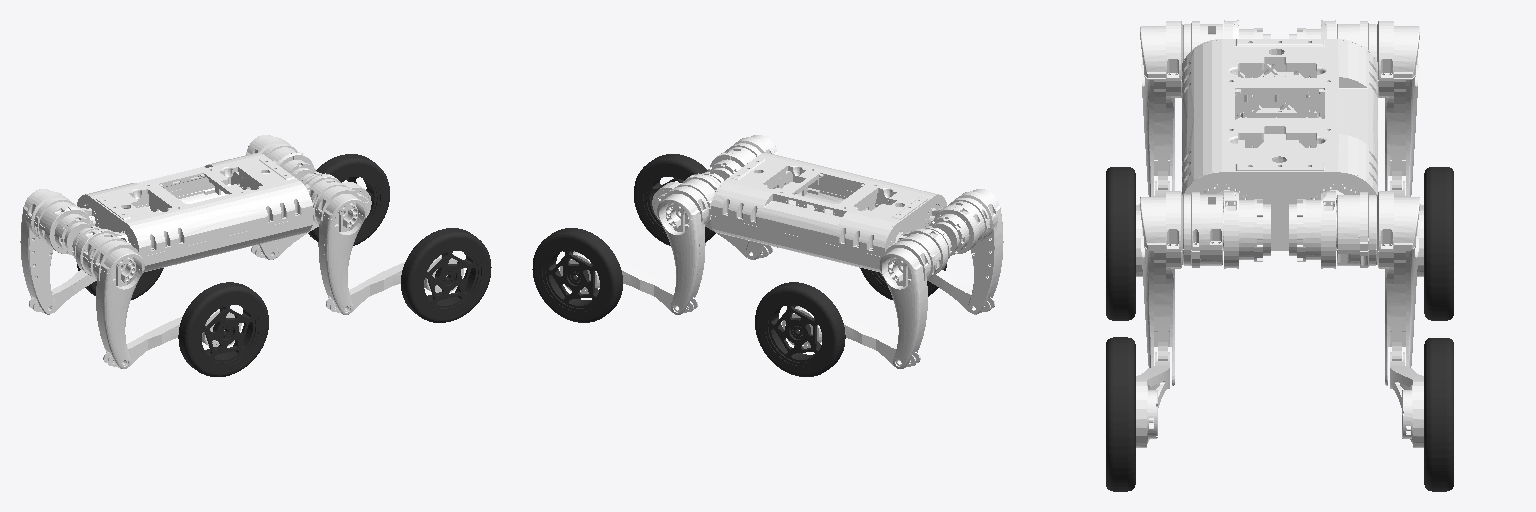
robot.urdf — RP_wd:
<?xml version="1.0"?>
<robot name="RP_wd">

    <link name="base_link">
      <visual>
        <origin xyz="0 0 0" rpy="0 0 0" />
        <geometry>
          <mesh filename="meshes/base_link.STL" />
        </geometry>
        <material>
          <color rgba="1.00000000 1.00000000 1.00000000 1.00000000"/>
        </material>
      </visual>
      <collision>
        <origin xyz="0 0 0" rpy="0 0 0" />
        <geometry>
          <box size="0.42 0.26 0.12" />
        </geometry>
      </collision>
      <inertial>
        <origin xyz="-0.0064993 -0.0009295 0.0021204" rpy="0 0 0" />
        <mass value="7.4975959" />
        <inertia ixx="0.0589761" ixy="0.0000143" ixz="0.000089" iyy="0.1812866" iyz="0.0004461" izz="0.2224493" />
      </inertial>
    </link>

    <link name="LF_ABAD_LINK">
      <visual>
        <origin xyz="0 0 0" rpy="0 0 0" />
        <geometry>
          <mesh filename="meshes/LF_ABAD_LINK.STL" />
        </geometry>
        <material>
          <color rgba="1.00000000 1.00000000 1.00000000 1.00000000"/>
        </material>
      </visual>
      <collision>
        <origin xyz="0 -0.034 0" rpy="1.5707963 0 0" />
        <geometry>
          <cylinder radius="0.048" length="0.064" />
        </geometry>
      </collision>
      <inertial>
        <origin xyz="-0.0009598 -0.0317346 0" rpy="0 0 0" />
        <mass value="0.8603295" />
        <inertia ixx="0.0006379" ixy="0.0000452" ixz="0" iyy="0.0007923" iyz="0" izz="0.0006889" />
      </inertial>
    </link>

    <link name="LF_HIP_LINK">
      <visual>
        <origin xyz="0 0 0" rpy="0 0 0" />
        <geometry>
          <mesh filename="meshes/LF_HIP_LINK.STL" />
        </geometry>
        <material>
          <color rgba="1.00000000 1.00000000 1.00000000 1.00000000"/>
        </material>
      </visual>
      <collision>
        <origin xyz="0 -0.014 0" rpy="1.5707963 0 0" />
        <geometry>
          <cylinder radius="0.048" length="0.11" />
        </geometry>
      </collision>
      <collision>
        <origin xyz="-0.02 0.016 -0.12" rpy="1.5707963 0 0" />
        <geometry>
          <box size="0.06 0.14 0.04" />
        </geometry>
      </collision>
      <inertial>
        <origin xyz="-0.0028159 -0.0294115 -0.0241435" rpy="0 0 0" />
        <mass value="1.3307055" />
        <inertia ixx="0.0057683" ixy="0.0001375" ixz="-0.0003075" iyy="0.0055296" iyz="0.000976" izz="0.0015633" />
      </inertial>
    </link>

    <link name="LF_KENN_LINK">
      <visual>
        <origin xyz="0 0 0" rpy="0 0 0" />
        <geometry>
          <mesh filename="meshes/LF_KENN_LINK.STL" />
        </geometry>
        <material>
          <color rgba="1.00000000 1.00000000 1.00000000 1.00000000"/>
        </material>
      </visual>
      <collision>
        <origin xyz="0.016 0.006 -0.08" rpy="0.122173 -0.1396263 0" />
        <geometry>
          <cylinder radius="0.02" length="0.18" />
        </geometry>
      </collision>
      <collision>
        <origin xyz="0 0.021 -0.22" rpy="1.5707963 0 0" />
        <geometry>
          <cylinder radius="0.045" length="0.03" />
        </geometry>
      </collision>
      <inertial>
        <origin xyz="0.0039019 0.0253379 -0.1888436" rpy="0 0 0" />
        <mass value="0.636513" />
        <inertia ixx="0.0027405" ixy="0.0000325" ixz="-0.0001755" iyy="0.002845" iyz="0.0003959" izz="0.0003994" />
      </inertial>
    </link>

    <link name="LF_FOOT_LINK">
      <visual>
        <origin xyz="0 0 0" rpy="0 0 0" />
        <geometry>
          <mesh filename="meshes/LF_FOOT_LINK.STL" />
        </geometry>
        <material>
          <color rgba="0.25098039 0.25098039 0.25098039 1.00000000"/>
        </material>
      </visual>
      <collision>
        <origin xyz="0.0000371 0.003 -0.0000005" rpy="1.5707963 0 0" />
        <geometry>
          <cylinder radius="0.1025" length="0.04" />
        </geometry>
      </collision>
      <inertial>
        <origin xyz="-0.0000842 0.0012423 -0.0000301" rpy="0 0 0" />
        <mass value="0.4354423" />
        <inertia ixx="0.0012979" ixy="0" ixz="0.0000008" iyy="0.0024981" iyz="0" izz="0.001296" />
      </inertial>
    </link>

    <link name="RF_ABAD_LINK">
      <visual>
        <origin xyz="0 0 0" rpy="0 0 0" />
        <geometry>
          <mesh filename="meshes/RF_ABAD_LINK.STL" />
        </geometry>
        <material>
          <color rgba="1.00000000 1.00000000 1.00000000 1.00000000"/>
        </material>
      </visual>
      <collision>
        <origin xyz="0 0.034 0" rpy="-1.5707963 0 0" />
        <geometry>
          <cylinder radius="0.048" length="0.064" />
        </geometry>
      </collision>
      <inertial>
        <origin xyz="-0.0009598 0.0317346 0" rpy="0 0 0" />
        <mass value="0.8603295" />
        <inertia ixx="0.0006379" ixy="-0.0000452" ixz="0" iyy="0.0007923" iyz="0" izz="0.0006889" />
      </inertial>
    </link>

    <link name="RF_HIP_LINK">
      <visual>
        <origin xyz="0 0 0" rpy="0 0 0" />
        <geometry>
          <mesh filename="meshes/RF_HIP_LINK.STL" />
        </geometry>
        <material>
          <color rgba="1.00000000 1.00000000 1.00000000 1.00000000"/>
        </material>
      </visual>
      <collision>
        <origin xyz="0 0.014 0" rpy="-1.5707963 0 0" />
        <geometry>
          <cylinder radius="0.048" length="0.11" />
        </geometry>
      </collision>
      <collision>
        <origin xyz="-0.02 -0.016 -0.12" rpy="-1.5707963 0 0" />
        <geometry>
          <box size="0.06 0.14 0.04" />
        </geometry>
      </collision>
      <inertial>
        <origin xyz="-0.0028159 0.0294115 -0.0241435" rpy="0 0 0" />
        <mass value="1.3307055" />
        <inertia ixx="0.0057683" ixy="-0.0001375" ixz="-0.0003075" iyy="0.0055296" iyz="-0.000976" izz="0.0015633" />
      </inertial>
    </link>

    <link name="RF_KENN_LINK">
      <visual>
        <origin xyz="0 0 0" rpy="0 0 0" />
        <geometry>
          <mesh filename="meshes/RF_KENN_LINK.STL" />
        </geometry>
        <material>
          <color rgba="1.00000000 1.00000000 1.00000000 1.00000000"/>
        </material>
      </visual>
      <collision>
        <origin xyz="0.016 -0.006 -0.08" rpy="-0.122173 -0.1396263 0" />
        <geometry>
          <cylinder radius="0.02" length="0.18" />
        </geometry>
      </collision>
      <collision>
        <origin xyz="0 -0.021 -0.22" rpy="-1.5707963 0 0" />
        <geometry>
          <cylinder radius="0.045" length="0.03" />
        </geometry>
      </collision>
      <inertial>
        <origin xyz="0.0039019 -0.0253379 -0.1888436" rpy="0 0 0" />
        <mass value="0.636513" />
        <inertia ixx="0.0027405" ixy="-0.0000325" ixz="-0.0001755" iyy="0.002845" iyz="-0.0003959" izz="0.0003994" />
      </inertial>
    </link>

    <link name="RF_FOOT_LINK">
      <visual>
        <origin xyz="0 0 0" rpy="0 0 0" />
        <geometry>
          <mesh filename="meshes/RF_FOOT_LINK.STL" />
        </geometry>
        <material>
          <color rgba="0.25098039 0.25098039 0.25098039 1.00000000"/>
        </material>
      </visual>
      <collision>
        <origin xyz="0.0000371 -0.003 -0.0000005" rpy="-1.5707963 0 0" />
        <geometry>
          <cylinder radius="0.1025" length="0.04" />
        </geometry>
      </collision>
      <inertial>
        <origin xyz="-0.0000842 -0.0012423 -0.0000301" rpy="0 0 0" />
        <mass value="0.4354423" />
        <inertia ixx="0.0012979" ixy="0" ixz="0.0000008" iyy="0.0024981" iyz="0" izz="0.001296" />
      </inertial>
    </link>

    <link name="LB_ABAD_LINK">
      <visual>
        <origin xyz="0 0 0" rpy="0 0 0" />
        <geometry>
          <mesh filename="meshes/LB_ABAD_LINK.STL" />
        </geometry>
        <material>
          <color rgba="1.00000000 1.00000000 1.00000000 1.00000000"/>
        </material>
      </visual>
      <collision>
        <origin xyz="0 -0.034 0" rpy="1.5707963 0 0" />
        <geometry>
          <cylinder radius="0.048" length="0.064" />
        </geometry>
      </collision>
      <inertial>
        <origin xyz="0.0009598 -0.0317346 0" rpy="0 0 0" />
        <mass value="0.8603295" />
        <inertia ixx="0.0006379" ixy="-0.0000452" ixz="0" iyy="0.0007923" iyz="0" izz="0.0006889" />
      </inertial>
    </link>

    <link name="LB_HIP_LINK">
      <visual>
        <origin xyz="0 0 0" rpy="0 0 0" />
        <geometry>
          <mesh filename="meshes/LB_HIP_LINK.STL" />
        </geometry>
        <material>
          <color rgba="1.00000000 1.00000000 1.00000000 1.00000000"/>
        </material>
      </visual>
      <collision>
        <origin xyz="0 -0.014 0" rpy="1.5707963 0 0" />
        <geometry>
          <cylinder radius="0.048" length="0.11" />
        </geometry>
      </collision>
      <collision>
        <origin xyz="-0.02 0.016 -0.12" rpy="1.5707963 0 0" />
        <geometry>
          <box size="0.06 0.14 0.040001" />
        </geometry>
      </collision>
      <inertial>
        <origin xyz="-0.0027582 -0.0294115 -0.0240635" rpy="0 0 0" />
        <mass value="1.3307055" />
        <inertia ixx="0.0057764" ixy="0.0001403" ixz="-0.0003087" iyy="0.0055352" iyz="0.0009799" izz="0.0015608" />
      </inertial>
    </link>

    <link name="LB_KENN_LINK">
      <visual>
        <origin xyz="0 0 0" rpy="0 0 0" />
        <geometry>
          <mesh filename="meshes/LB_KENN_LINK.STL" />
        </geometry>
        <material>
          <color rgba="1.00000000 1.00000000 1.00000000 1.00000000"/>
        </material>
      </visual>
      <collision>
        <origin xyz="0.016 0.006 -0.08" rpy="0.122173 -0.1396263 0" />
        <geometry>
          <cylinder radius="0.02" length="0.18" />
        </geometry>
      </collision>
      <collision>
        <origin xyz="0 0.021 -0.22" rpy="1.5707963 0 0" />
        <geometry>
          <cylinder radius="0.045" length="0.03" />
        </geometry>
      </collision>
      <inertial>
        <origin xyz="0.0039019 0.0253379 -0.1888436" rpy="0 0 0" />
        <mass value="0.636513" />
        <inertia ixx="0.0027405" ixy="0.0000325" ixz="-0.0001755" iyy="0.002845" iyz="0.0003959" izz="0.0003994" />
      </inertial>
    </link>

    <link name="LB_FOOT_LINK">
      <visual>
        <origin xyz="0 0 0" rpy="0 0 0" />
        <geometry>
          <mesh filename="meshes/LB_FOOT_LINK.STL" />
        </geometry>
        <material>
          <color rgba="0.25098039 0.25098039 0.25098039 1.00000000"/>
        </material>
      </visual>
      <collision>
        <origin xyz="0.0000371 0.003 -0.0000005" rpy="1.5707963 0 0" />
        <geometry>
          <cylinder radius="0.1025" length="0.04" />
        </geometry>
      </collision>
      <inertial>
        <origin xyz="-0.0000548 0.0044286 -0.0000713" rpy="0 0 0" />
        <mass value="0.4354423" />
        <inertia ixx="0.0012966" ixy="0" ixz="0.0000012" iyy="0.0024981" iyz="0" izz="0.0012973" />
      </inertial>
    </link>

    <link name="RB_ABAD_LINK">
      <visual>
        <origin xyz="0 0 0" rpy="0 0 0" />
        <geometry>
          <mesh filename="meshes/RB_ABAD_LINK.STL" />
        </geometry>
        <material>
          <color rgba="1.00000000 1.00000000 1.00000000 1.00000000"/>
        </material>
      </visual>
      <collision>
        <origin xyz="0 0.034 0" rpy="-1.5707963 0 0" />
        <geometry>
          <cylinder radius="0.048" length="0.064" />
        </geometry>
      </collision>
      <inertial>
        <origin xyz="0.0009598 0.0317346 0" rpy="0 0 0" />
        <mass value="0.8603295" />
        <inertia ixx="0.0006379" ixy="0.0000452" ixz="0" iyy="0.0007923" iyz="0" izz="0.0006889" />
      </inertial>
    </link>

    <link name="RB_HIP_LINK">
      <visual>
        <origin xyz="0 0 0" rpy="0 0 0" />
        <geometry>
          <mesh filename="meshes/RB_HIP_LINK.STL" />
        </geometry>
        <material>
          <color rgba="1.00000000 1.00000000 1.00000000 1.00000000"/>
        </material>
      </visual>
      <collision>
        <origin xyz="0 0.014 0" rpy="-1.5707963 0 0" />
        <geometry>
          <cylinder radius="0.048" length="0.11" />
        </geometry>
      </collision>
      <collision>
        <origin xyz="-0.02 -0.016 -0.12" rpy="-1.5707963 0 0" />
        <geometry>
          <box size="0.06 0.14 0.040001" />
        </geometry>
      </collision>
      <inertial>
        <origin xyz="-0.0027582 0.0294115 -0.0240635" rpy="0 0 0" />
        <mass value="1.3307055" />
        <inertia ixx="0.0057764" ixy="-0.0001403" ixz="-0.0003087" iyy="0.0055352" iyz="-0.0009799" izz="0.0015608" />
      </inertial>
    </link>

    <link name="RB_KENN_LINK">
      <visual>
        <origin xyz="0 0 0" rpy="0 0 0" />
        <geometry>
          <mesh filename="meshes/RB_KENN_LINK.STL" />
        </geometry>
        <material>
          <color rgba="1.00000000 1.00000000 1.00000000 1.00000000"/>
        </material>
      </visual>
      <collision>
        <origin xyz="0.016 -0.006 -0.08" rpy="-0.122173 -0.1396263 0" />
        <geometry>
          <cylinder radius="0.02" length="0.18" />
        </geometry>
      </collision>
      <collision>
        <origin xyz="0 -0.021 -0.22" rpy="-1.5707963 0 0" />
        <geometry>
          <cylinder radius="0.045" length="0.03" />
        </geometry>
      </collision>
      <inertial>
        <origin xyz="0.0039019 -0.0253379 -0.1888436" rpy="0 0 0" />
        <mass value="0.636513" />
        <inertia ixx="0.0027405" ixy="-0.0000325" ixz="-0.0001755" iyy="0.002845" iyz="-0.0003959" izz="0.0003994" />
      </inertial>
    </link>

    <link name="RB_FOOT_LINK">
      <visual>
        <origin xyz="0 0 0" rpy="0 0 0" />
        <geometry>
          <mesh filename="meshes/RB_FOOT_LINK.STL" />
        </geometry>
        <material>
          <color rgba="0.25098039 0.25098039 0.25098039 1.00000000"/>
        </material>
      </visual>
      <collision>
        <origin xyz="0.0000371 -0.003 -0.0000005" rpy="-1.5707963 0 0" />
        <geometry>
          <cylinder radius="0.1025" length="0.04" />
        </geometry>
      </collision>
      <inertial>
        <origin xyz="-0.0000548 -0.0044286 -0.0000713" rpy="0 0 0" />
        <mass value="0.4354423" />
        <inertia ixx="0.0012966" ixy="0" ixz="0.0000012" iyy="0.0024981" iyz="0" izz="0.0012973" />
      </inertial>
    </link>

  <joint name="LF_ABAD_JOINT" type="revolute">
    <parent link="base_link" />
    <child link="LF_ABAD_LINK" />
    <origin xyz="0.26915 0.07715 0.007" rpy="0 0 0" />
    <axis xyz="1 0 0" />
    <limit lower="-1" upper="1" effort="42" velocity="10.472" />
  </joint>

  <joint name="LF_HIP_JOINT" type="revolute">
    <parent link="LF_ABAD_LINK" />
    <child link="LF_HIP_LINK" />
    <origin xyz="0 0.0674 0" rpy="0 0 0" />
    <axis xyz="0 1 0" />
    <limit lower="-1.57" upper="3.49" effort="42" velocity="10.472" />
  </joint>

  <joint name="LF_KENN_JOINT" type="revolute">
    <parent link="LF_HIP_LINK" />
    <child link="LF_KENN_LINK" />
    <origin xyz="0 0.011764 -0.2125" rpy="0 0 0" />
    <axis xyz="0 1 0" />
    <limit lower="-2.7" upper="-0.83" effort="42" velocity="10.472" />
  </joint>

  <joint name="LF_FOOT_JOINT" type="continuous">
    <parent link="LF_KENN_LINK" />
    <child link="LF_FOOT_LINK" />
    <origin xyz="0 0.052 -0.22006" rpy="0 0 0" />
    <axis xyz="0 1 0" />
  </joint>

  <joint name="RF_ABAD_JOINT" type="revolute">
    <parent link="base_link" />
    <child link="RF_ABAD_LINK" />
    <origin xyz="0.26915 -0.07715 0.007" rpy="0 0 0" />
    <axis xyz="1 0 0" />
    <limit lower="-1" upper="1" effort="42" velocity="10.472" />
  </joint>

  <joint name="RF_HIP_JOINT" type="revolute">
    <parent link="RF_ABAD_LINK" />
    <child link="RF_HIP_LINK" />
    <origin xyz="0 -0.0674 0" rpy="0 0 0" />
    <axis xyz="0 1 0" />
    <limit lower="-1.57" upper="3.49" effort="42" velocity="10.472" />
  </joint>

  <joint name="RF_KENN_JOINT" type="revolute">
    <parent link="RF_HIP_LINK" />
    <child link="RF_KENN_LINK" />
    <origin xyz="0 -0.011764 -0.2125" rpy="0 0 0" />
    <axis xyz="0 1 0" />
    <limit lower="-2.7" upper="-0.83" effort="42" velocity="10.472" />
  </joint>

  <joint name="RF_FOOT_JOINT" type="continuous">
    <parent link="RF_KENN_LINK" />
    <child link="RF_FOOT_LINK" />
    <origin xyz="0 -0.052 -0.22006" rpy="0 0 0" />
    <axis xyz="0 1 0" />
  </joint>

  <joint name="LB_ABAD_JOINT" type="revolute">
    <parent link="base_link" />
    <child link="LB_ABAD_LINK" />
    <origin xyz="-0.26885 0.07715 0.007" rpy="0 0 0" />
    <axis xyz="1 0 0" />
    <limit lower="-1" upper="1" effort="42" velocity="10.472" />
  </joint>

  <joint name="LB_HIP_JOINT" type="revolute">
    <parent link="LB_ABAD_LINK" />
    <child link="LB_HIP_LINK" />
    <origin xyz="0 0.0674 0" rpy="0 0 0" />
    <axis xyz="0 1 0" />
    <limit lower="-1.57" upper="3.49" effort="42" velocity="10.472" />
  </joint>

  <joint name="LB_KENN_JOINT" type="revolute">
    <parent link="LB_HIP_LINK" />
    <child link="LB_KENN_LINK" />
    <origin xyz="0 0.011764 -0.2125" rpy="0 0 0" />
    <axis xyz="0 1 0" />
    <limit lower="-2.7" upper="-0.83" effort="42" velocity="10.472" />
  </joint>

  <joint name="LB_FOOT_JOINT" type="continuous">
    <parent link="LB_KENN_LINK" />
    <child link="LB_FOOT_LINK" />
    <origin xyz="0 0.052 -0.22006" rpy="0 0 0" />
    <axis xyz="0 1 0" />
  </joint>

  <joint name="RB_ABAD_JOINT" type="revolute">
    <parent link="base_link" />
    <child link="RB_ABAD_LINK" />
    <origin xyz="-0.26885 -0.07715 0.007" rpy="0 0 0" />
    <axis xyz="1 0 0" />
    <limit lower="-1" upper="1" effort="42" velocity="10.472" />
  </joint>

  <joint name="RB_HIP_JOINT" type="revolute">
    <parent link="RB_ABAD_LINK" />
    <child link="RB_HIP_LINK" />
    <origin xyz="0 -0.0674 0" rpy="0 0 0" />
    <axis xyz="0 1 0" />
    <limit lower="-1.57" upper="3.49" effort="42" velocity="10.472" />
  </joint>

  <joint name="RB_KENN_JOINT" type="revolute">
    <parent link="RB_HIP_LINK" />
    <child link="RB_KENN_LINK" />
    <origin xyz="0 -0.011764 -0.2125" rpy="0 0 0" />
    <axis xyz="0 1 0" />
    <limit lower="-2.7" upper="-0.83" effort="42" velocity="10.472" />
  </joint>

  <joint name="RB_FOOT_JOINT" type="continuous">
    <parent link="RB_KENN_LINK" />
    <child link="RB_FOOT_LINK" />
    <origin xyz="0 -0.052 -0.22006" rpy="0 0 0" />
    <axis xyz="0 1 0" />
  </joint>

</robot>

--- Render facts (derived) ---
3 views of the same robot in one strip: view 1: azimuth 30°, elevation 25°; view 2: azimuth 150°, elevation 25°; view 3: azimuth 270°, elevation 25° (orthographic).
Robot: RP_wd — 17 links, 16 joints (12 revolute, 4 continuous); root link base_link; default pose: joints at zero except 4 at the middle of their limits (LF_KENN_JOINT = -1.76, RF_KENN_JOINT = -1.76, LB_KENN_JOINT = -1.76, RB_KENN_JOINT = -1.76).
Links seen in each view (by area): view 1: base_link, RB_FOOT_LINK, RF_FOOT_LINK, RB_HIP_LINK, RF_HIP_LINK, LB_HIP_LINK, LF_FOOT_LINK, LB_ABAD_LINK, RF_KENN_LINK, RB_KENN_LINK, LF_HIP_LINK, LB_KENN_LINK (+4 smaller); view 2: base_link, LF_FOOT_LINK, LB_FOOT_LINK, LB_HIP_LINK, LF_HIP_LINK, RB_HIP_LINK, RF_FOOT_LINK, RB_ABAD_LINK, LB_KENN_LINK, LF_KENN_LINK, RF_HIP_LINK, RB_KENN_LINK (+4 smaller); view 3: base_link, RF_HIP_LINK, LF_HIP_LINK, RB_HIP_LINK, LB_HIP_LINK, RF_FOOT_LINK, LB_FOOT_LINK, RB_FOOT_LINK, LF_FOOT_LINK, LF_ABAD_LINK, RF_ABAD_LINK, LF_KENN_LINK (+3 smaller).
Link boxes in pixels (x1,y1,x2,y2): base_link: (77, 152, 312, 272); RB_FOOT_LINK: (178, 282, 268, 376); RF_FOOT_LINK: (401, 228, 491, 322); RB_HIP_LINK: (83, 233, 144, 368); RF_HIP_LINK: (309, 179, 366, 314); LB_HIP_LINK: (20, 189, 75, 314); LF_FOOT_LINK: (308, 154, 389, 245); LB_ABAD_LINK: (45, 205, 95, 255); RF_KENN_LINK: (326, 254, 463, 313); RB_KENN_LINK: (103, 308, 241, 367); LF_HIP_LINK: (246, 135, 296, 259); LB_KENN_LINK: (29, 270, 96, 312); base_link: (711, 152, 946, 272); LF_FOOT_LINK: (532, 228, 622, 322); LB_FOOT_LINK: (755, 282, 845, 376); LB_HIP_LINK: (879, 233, 940, 368); LF_HIP_LINK: (657, 179, 714, 314); RB_HIP_LINK: (948, 189, 1003, 314); RF_FOOT_LINK: (634, 154, 715, 245); RB_ABAD_LINK: (928, 205, 978, 255); LB_KENN_LINK: (782, 306, 920, 367); LF_KENN_LINK: (560, 251, 697, 313); RF_HIP_LINK: (725, 135, 777, 259); RB_KENN_LINK: (927, 270, 994, 312); base_link: (1182, 39, 1377, 250); RF_HIP_LINK: (1140, 191, 1223, 385); LF_HIP_LINK: (1336, 191, 1419, 385); RB_HIP_LINK: (1140, 21, 1222, 196); LB_HIP_LINK: (1337, 21, 1419, 196); RF_FOOT_LINK: (1106, 337, 1135, 491); LB_FOOT_LINK: (1424, 167, 1453, 320); RB_FOOT_LINK: (1106, 167, 1135, 320); LF_FOOT_LINK: (1424, 338, 1453, 491); LF_ABAD_LINK: (1289, 190, 1343, 268); RF_ABAD_LINK: (1217, 190, 1270, 268); LF_KENN_LINK: (1390, 352, 1423, 447).
Bounding box of the posed robot: 0.9092 × 0.4641 × 0.332 m (x, y, z).
Meshes: 17 distinct files referenced, 17 mesh visuals loaded (17 binary STL).
